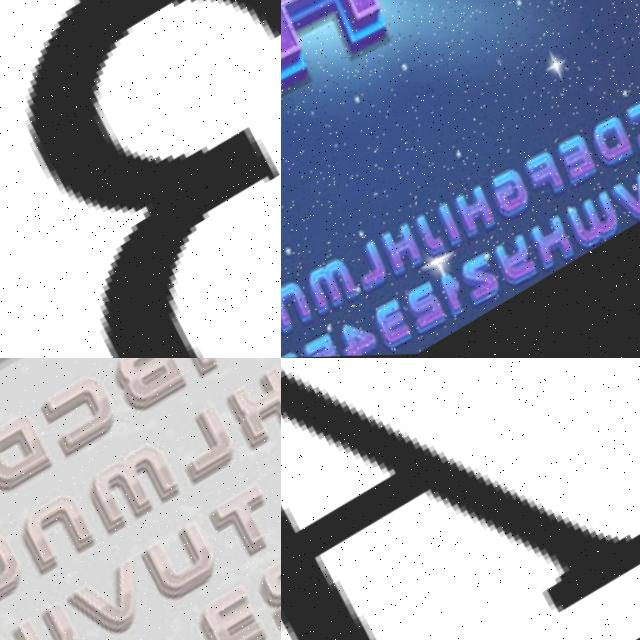1: (439, 266, 489, 323)
2: (408, 276, 470, 341), (257, 549, 281, 634)
3: (0, 0, 281, 358), (200, 587, 278, 640), (379, 297, 433, 354)
4: (338, 305, 406, 358), (134, 621, 221, 640)
5: (307, 328, 366, 358)
A: (281, 358, 640, 640)
